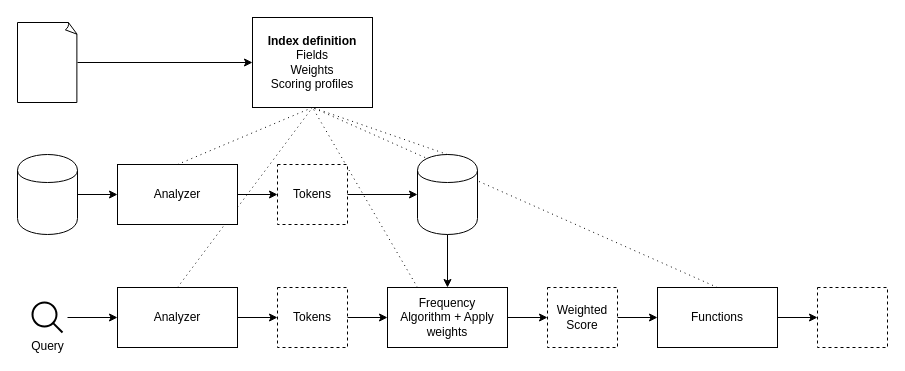
This 905x371 diagram has some shape labels left out. The shapes that lost their labels are listed below. From the top down, each one's centre as x and y in pixels, then its label:
At (47,62): "{ JSON }".
At (47,194): "Data source".
At (447,194): "Index".
At (852,317): "Total score".
